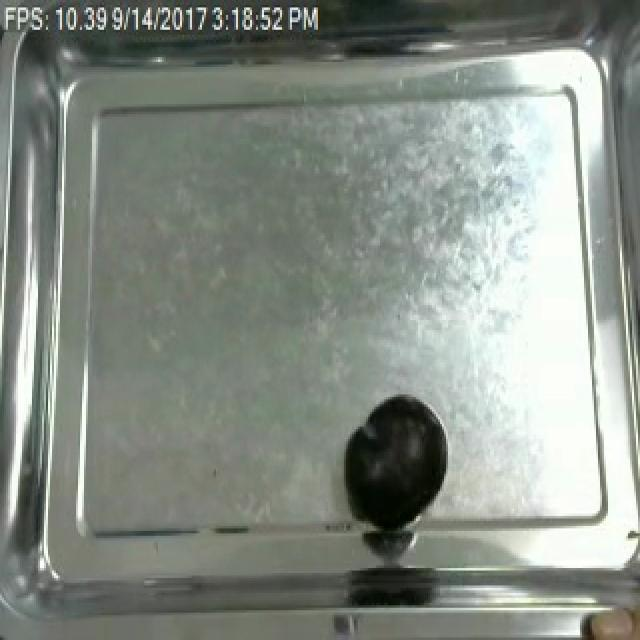Fruit: (338, 392, 448, 531)
